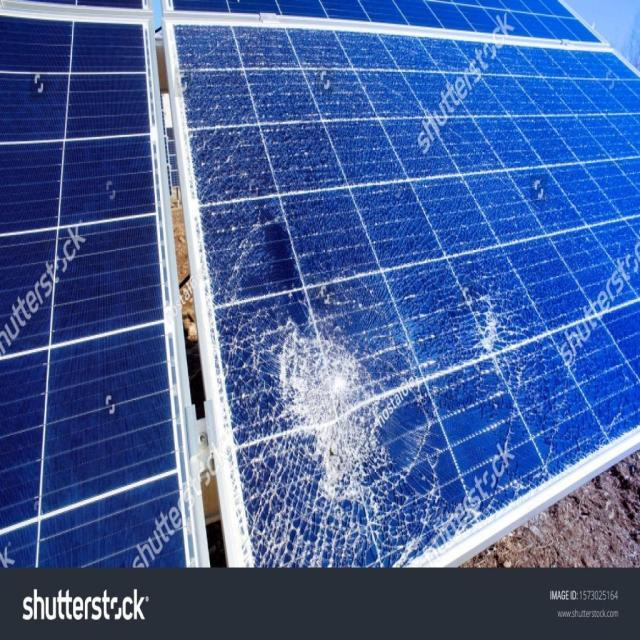cracked: (161, 14, 640, 570)
